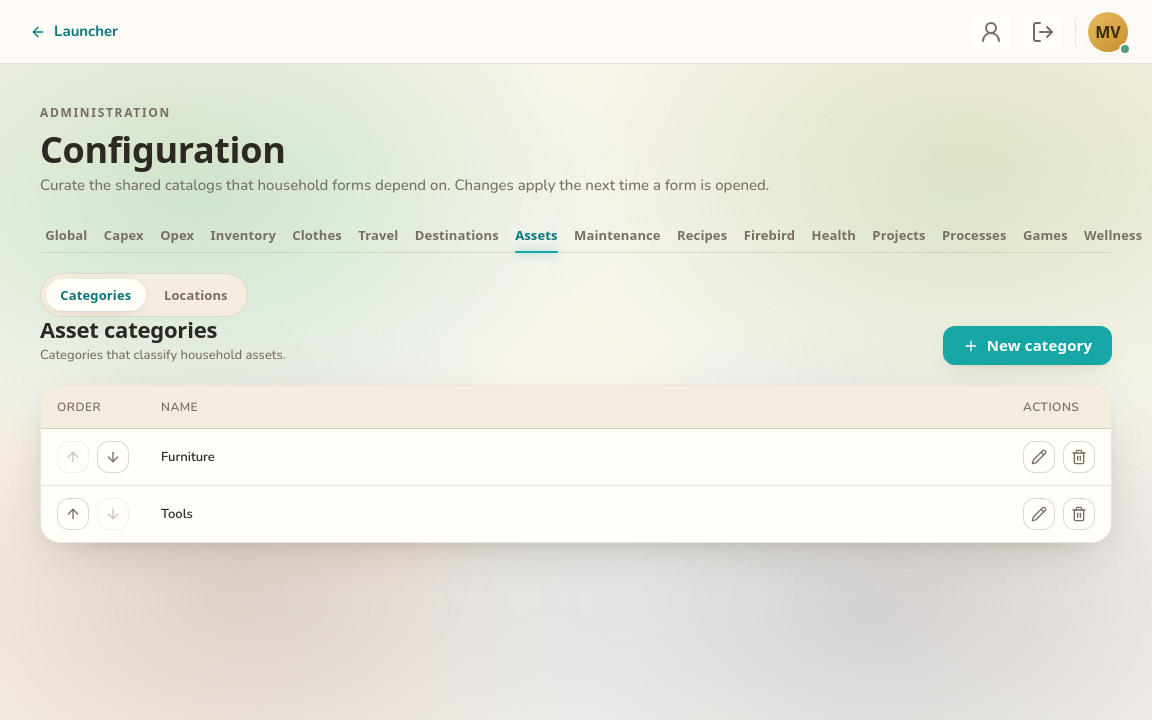
Scenario: Configuration navigation and states › shows the Assets catalog tabs
The width and height of the screenshot is (1152, 720).
Expected: the heading "Asset categories" is shown, [40,314,217,344]
Expected: the text "Furniture" is shown, [145,429,1007,486]
Click the tab "Locations". click: (196, 295)
box: [150,279,242,311]
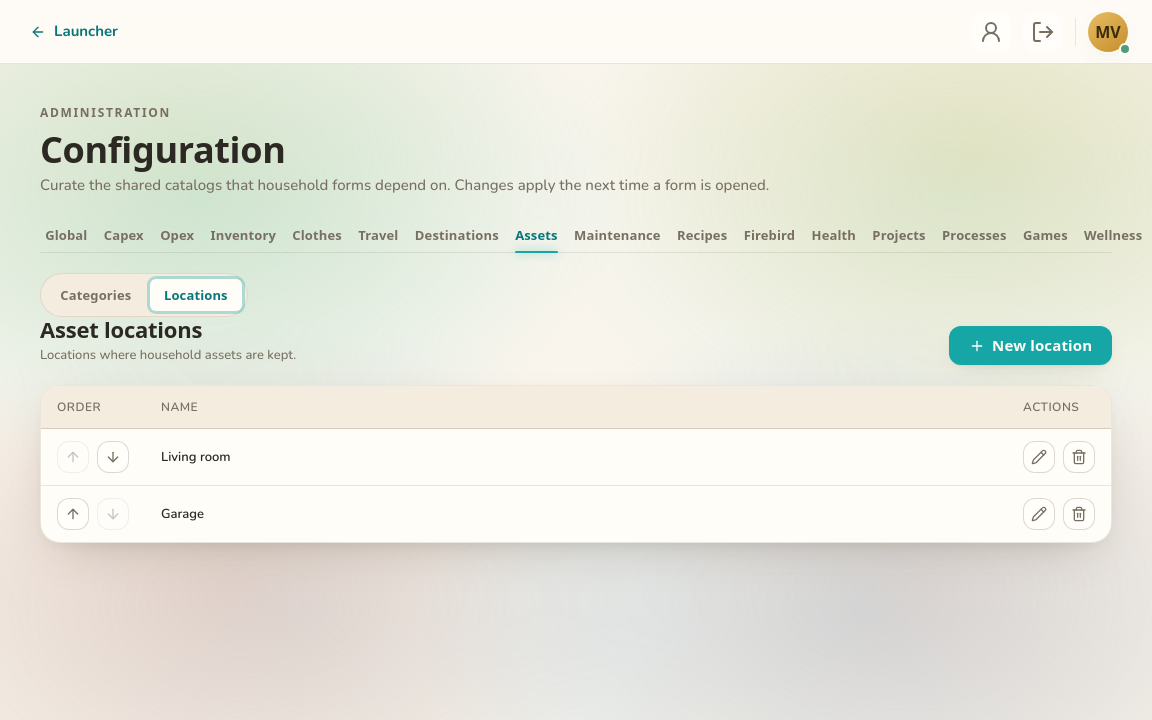
Now the heading "Asset locations" is shown, box [40,314,202,344]
Now the text "Garage" is shown, box [145,486,1007,542]
